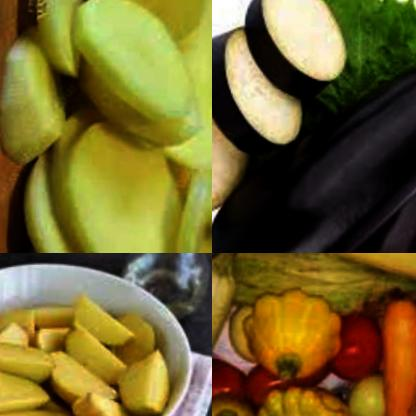eggplant: (212, 18, 416, 253), (212, 0, 343, 248), (331, 120, 416, 253)
potato: (2, 0, 212, 253), (0, 273, 180, 416)
squash-patisson: (245, 286, 351, 397), (255, 384, 364, 416), (212, 381, 274, 416)
tomato: (327, 305, 386, 378)
vegetable marrow: (264, 253, 416, 293), (212, 253, 249, 416), (372, 283, 416, 416)
